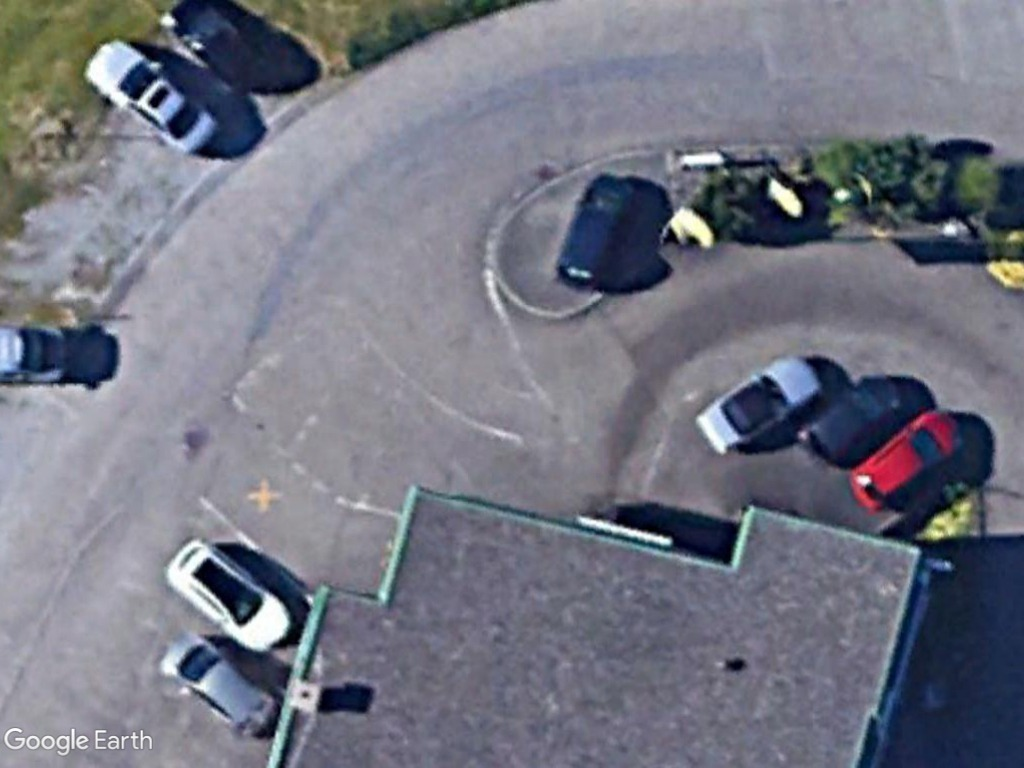car: (80, 37, 220, 159), (159, 539, 294, 651), (695, 349, 829, 457), (846, 407, 974, 513), (157, 632, 278, 736), (552, 168, 641, 291)
